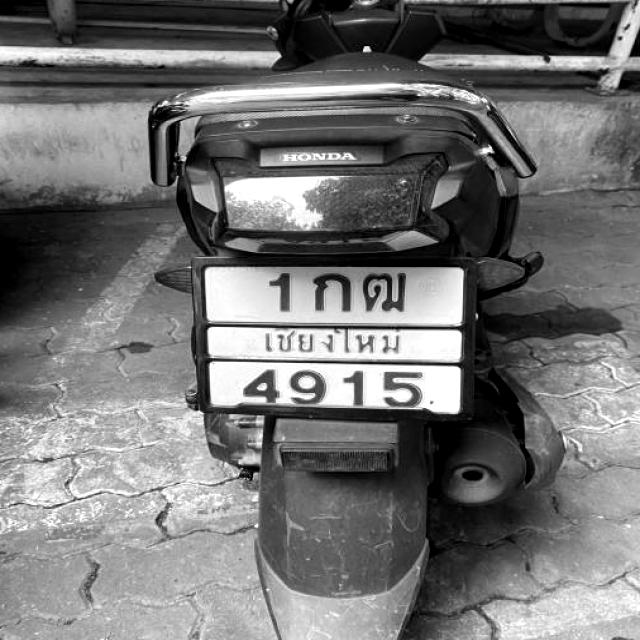letters: (358, 266, 414, 317), (376, 360, 433, 407), (312, 270, 358, 322), (242, 362, 280, 404), (292, 366, 332, 403), (266, 271, 294, 310), (346, 367, 366, 404)
license-plate: (197, 257, 470, 416)
province: (254, 323, 416, 353)
